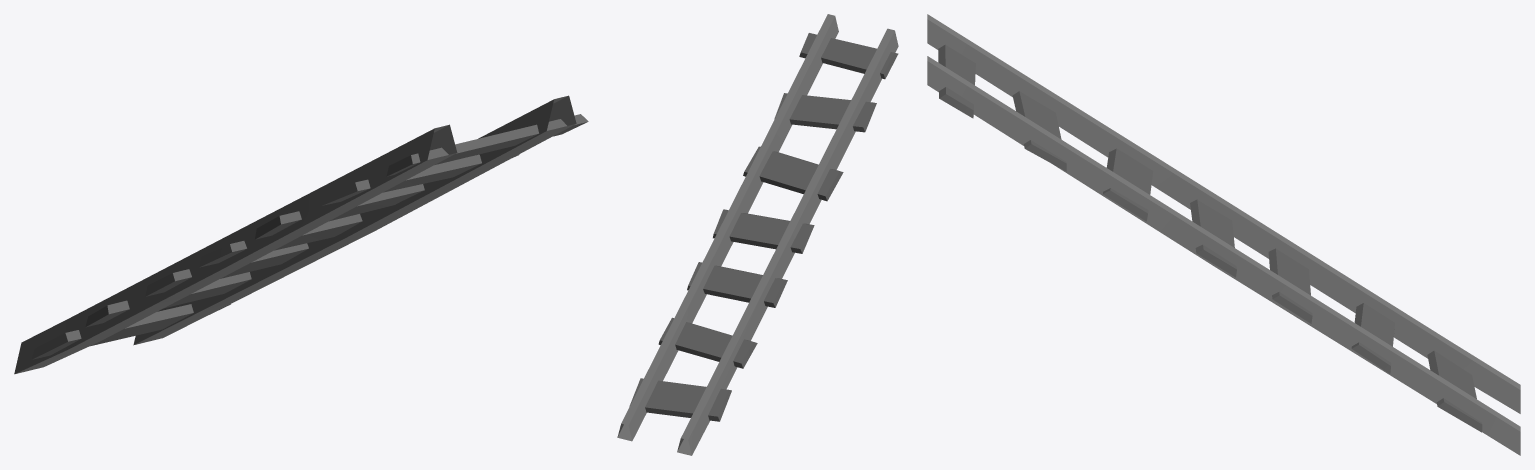
File: Ray_Slope_01.fbx
3 renders of one model, left to right at view 1: azimuth 30°, elevation 25°; view 2: azimuth 150°, elevation 25°; view 3: azimuth 270°, elevation 25°, orthographic. The views are drawn at different scales.
Parts seen in each view (by area): view 1: Ray_Slope_01; view 2: Ray_Slope_01; view 3: Ray_Slope_01.
Boxes of the visible parts, <box> form: Ray_Slope_01: <box>14,95,588,374</box>; Ray_Slope_01: <box>617,14,898,455</box>; Ray_Slope_01: <box>927,14,1520,455</box>.
Bounding box in the file's own units: 625 × 1727 × 2365.
